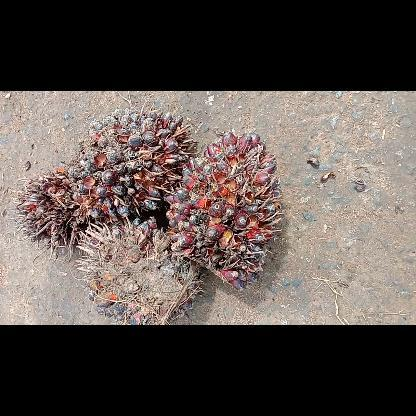TBS abnormal: (164, 132, 284, 288), (68, 103, 196, 221), (75, 216, 202, 324), (10, 168, 108, 258)
